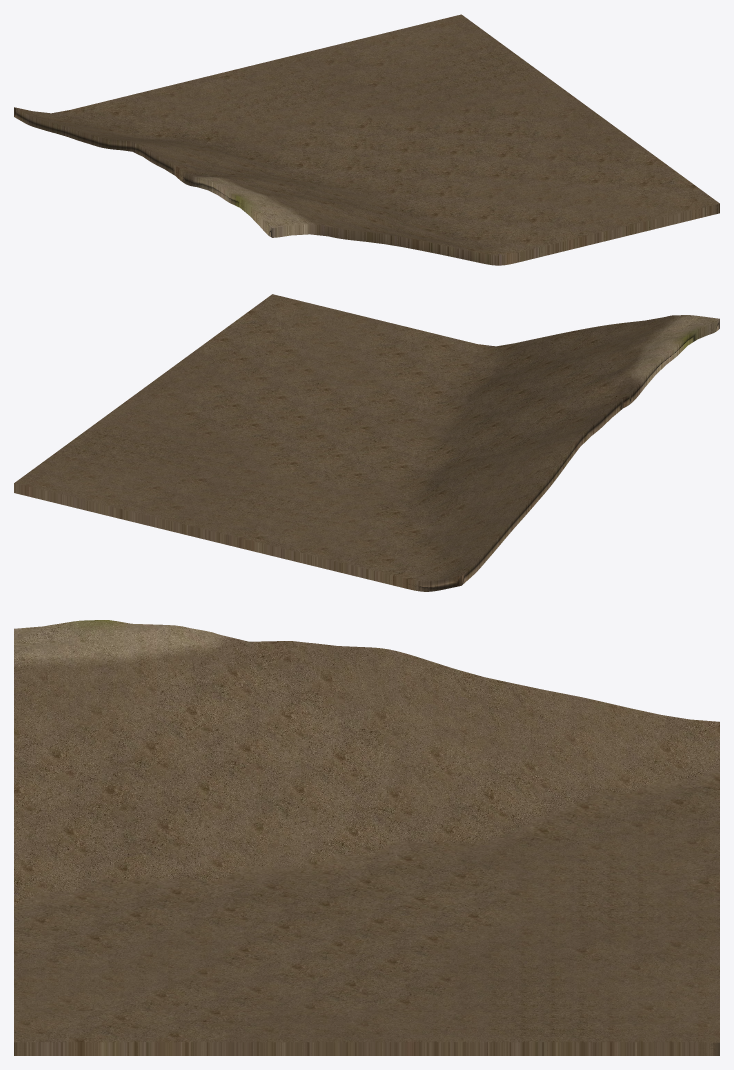
The model's file is chunk_5_2.glb.
The picture shows the model from 3 angles, top to bottom: view 1: azimuth 30°, elevation 25°; view 2: azimuth 150°, elevation 25°; view 3: azimuth 270°, elevation 25°; orthographic projection. The views are drawn at different scales.
Parts seen in each view (by area): view 1: Terrain_L0, Terrain_L2, Terrain_L1; view 2: Terrain_L0, Terrain_L2, Terrain_L1; view 3: Terrain_L0, Terrain_L2, Terrain_L1.
Boxes of the visible parts, x1,y1,x2,y2 form: Terrain_L0: [14, 14, 719, 265]; Terrain_L2: [14, 15, 719, 265]; Terrain_L1: [14, 15, 719, 265]; Terrain_L0: [14, 294, 719, 591]; Terrain_L2: [14, 295, 719, 591]; Terrain_L1: [14, 294, 714, 591]; Terrain_L0: [14, 620, 719, 1055]; Terrain_L2: [14, 620, 719, 1055]; Terrain_L1: [14, 621, 719, 1055].
Size of the model in its own units: 96 by 20.64 by 96.
1 material, 1 textured.
